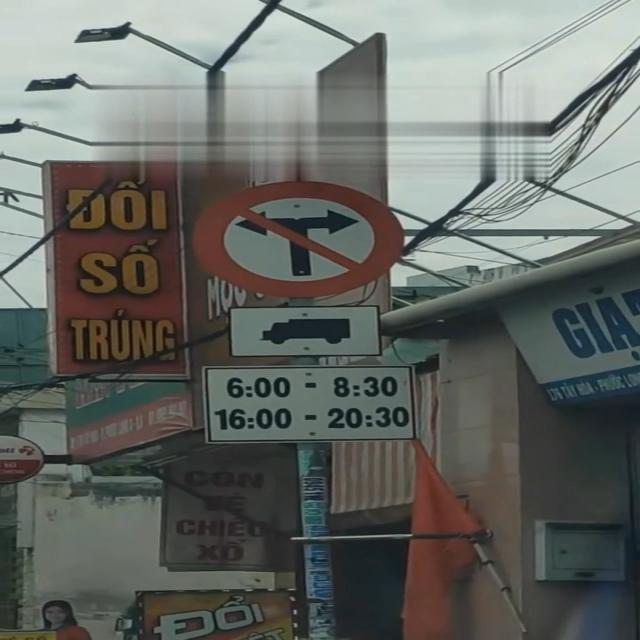137-cam-re-trai-va-re-phai: (196, 178, 410, 298)
